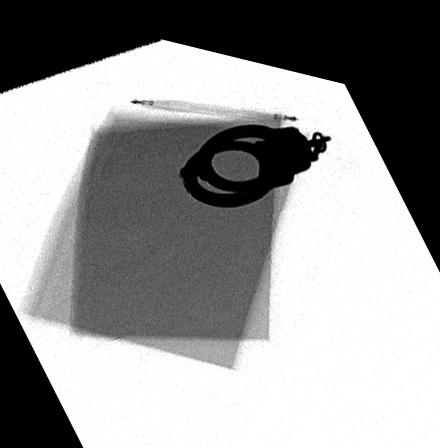HandCuffs: (179, 110, 331, 196)
